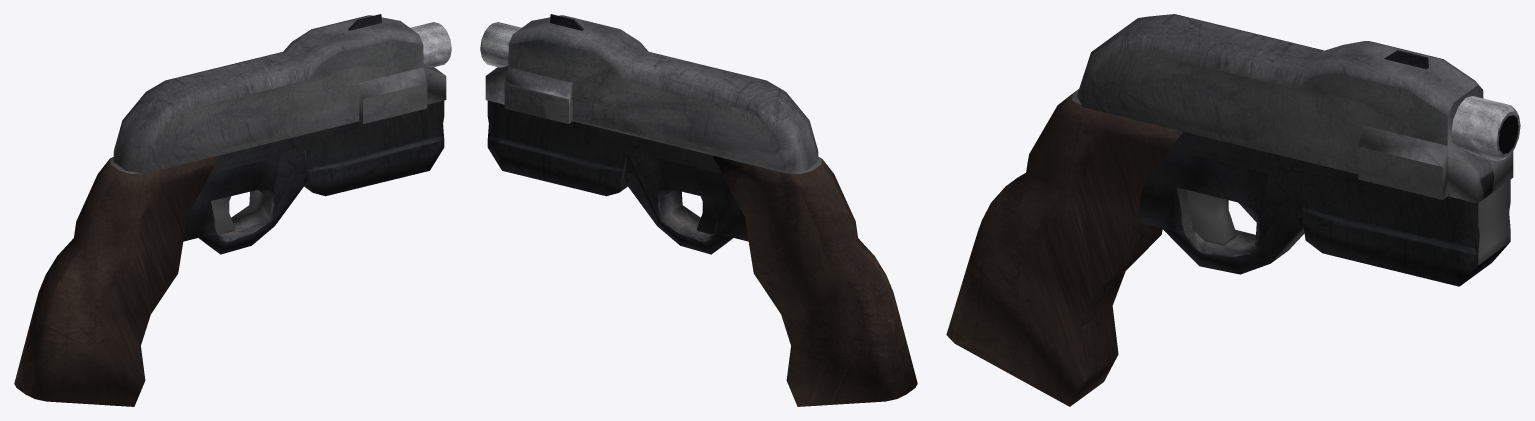
The model's file is pistol.fbx.
3 renders of one model, left to right at view 1: azimuth 30°, elevation 25°; view 2: azimuth 150°, elevation 25°; view 3: azimuth 330°, elevation 25°, orthographic. The views are drawn at different scales.
Parts seen in each view (by area): view 1: Pistol; view 2: Pistol; view 3: Pistol.
Part boxes in pixels (x1=…): Pistol: x1=14, y1=14, x2=451, y2=406; Pistol: x1=480, y1=14, x2=917, y2=406; Pistol: x1=946, y1=14, x2=1520, y2=406.
Bounding box in the file's own units: 482 × 349 × 69.34.
Materials: 1 (1 with a texture image).
